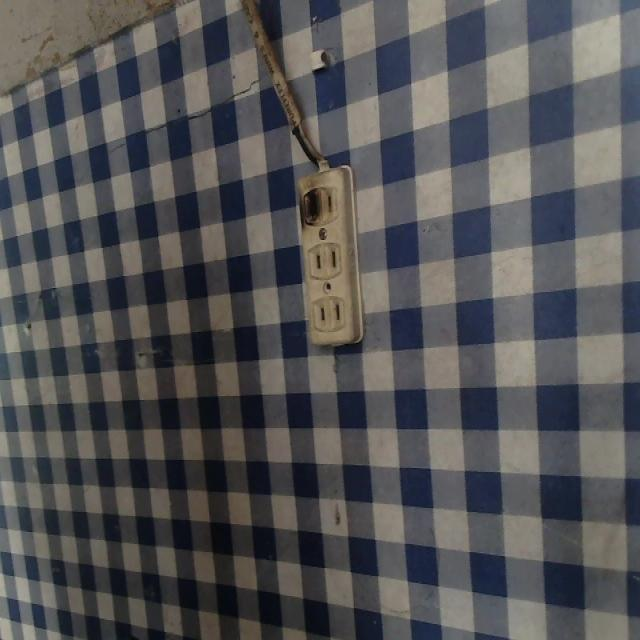-: (296, 179, 323, 229)
